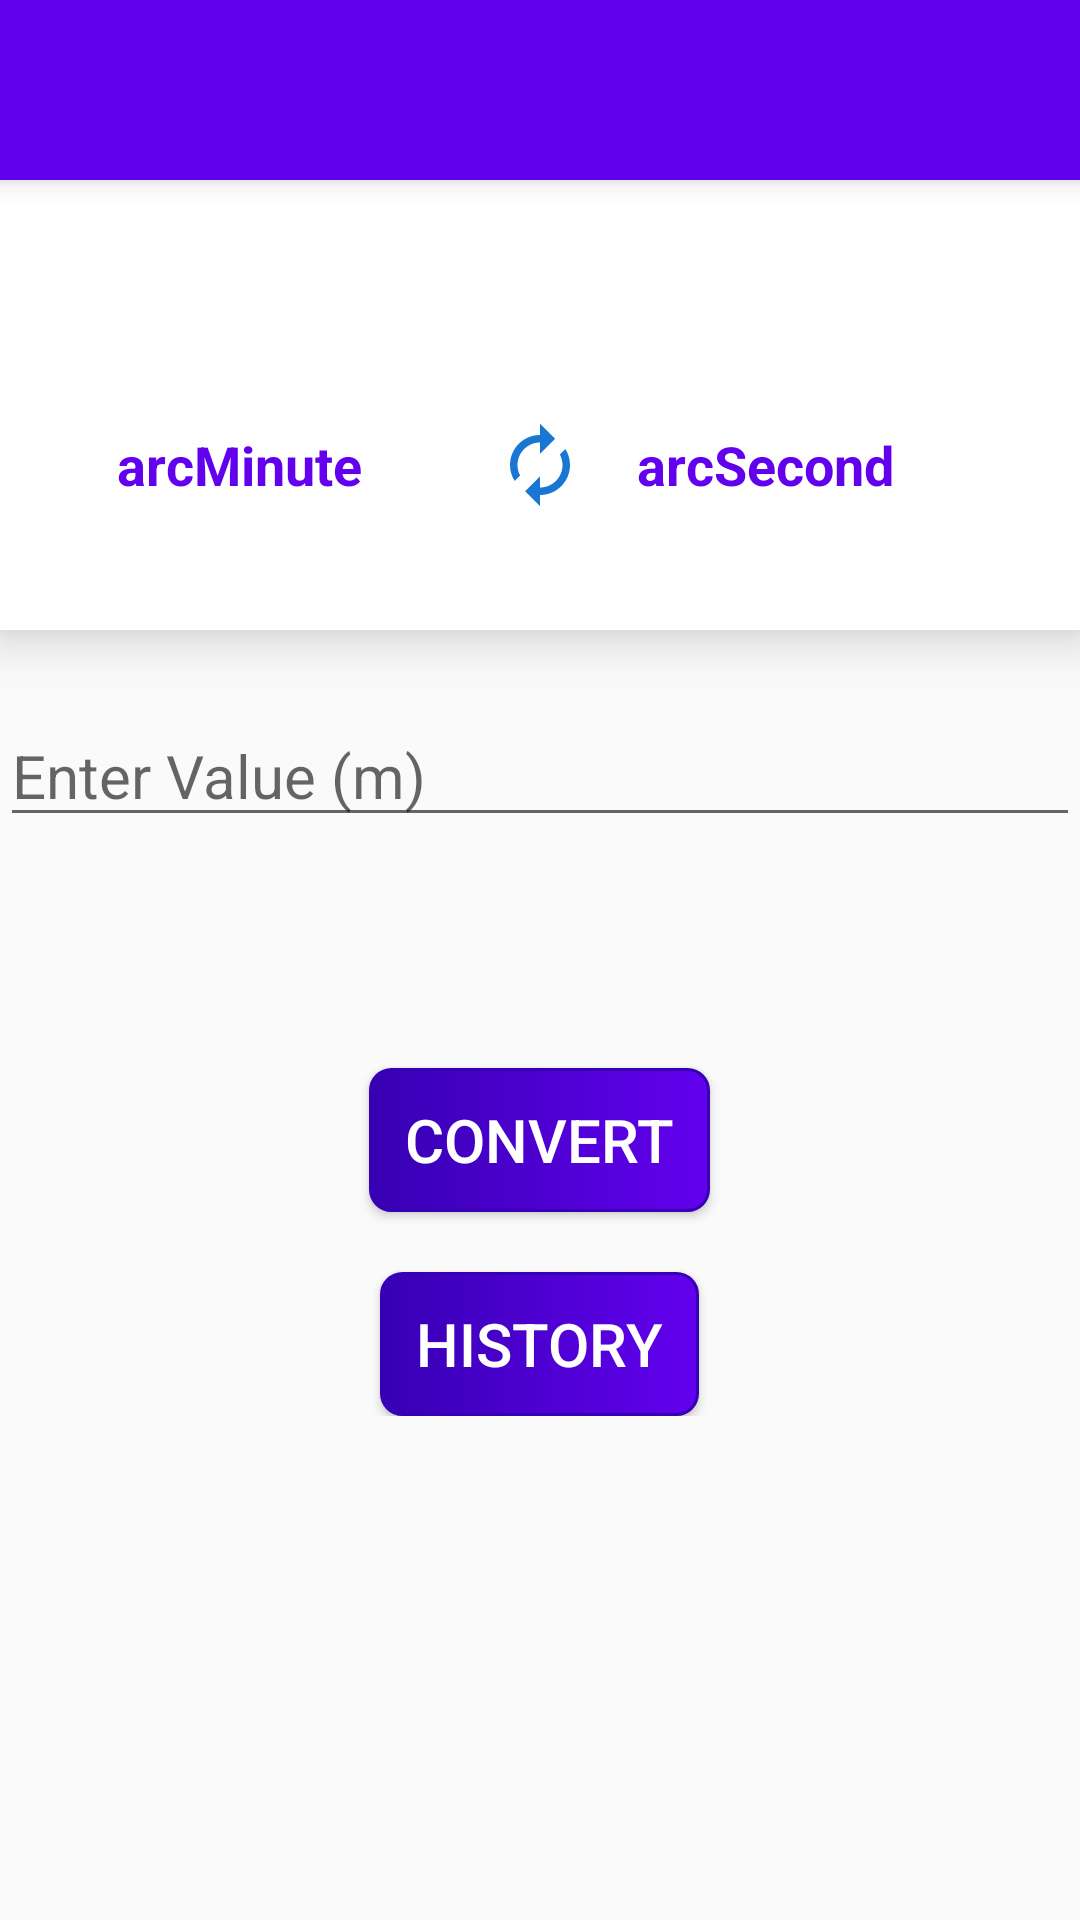

Icon bounding boxes for this 1080 x 1920 phone screenshot, format (x1, y1, x2, y2):
autorenew: (510, 424, 570, 506)
